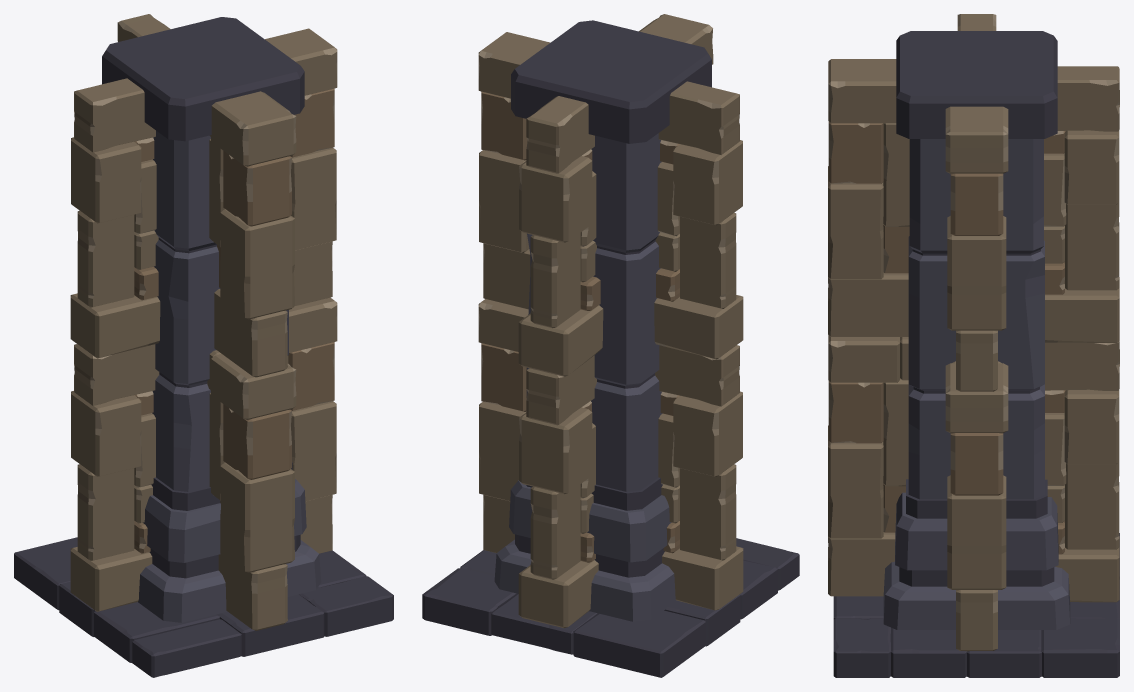
The model's file is four_way_column.glb.
3 views of the same model, side by side, from view 1: azimuth 30°, elevation 25°; view 2: azimuth 150°, elevation 25°; view 3: azimuth 270°, elevation 25° (orthographic). The views are drawn at different scales.
Parts seen in each view (by area): view 1: four_way_column; view 2: four_way_column; view 3: four_way_column.
Part boxes in pixels (x1,y1,x2,y2): four_way_column: (14,14,393,677); four_way_column: (422,14,799,677); four_way_column: (828,14,1119,677).
Bounding box in the file's own units: 2.01 × 4.3 × 2.04.
Materials: 1 (1 with a texture image).
